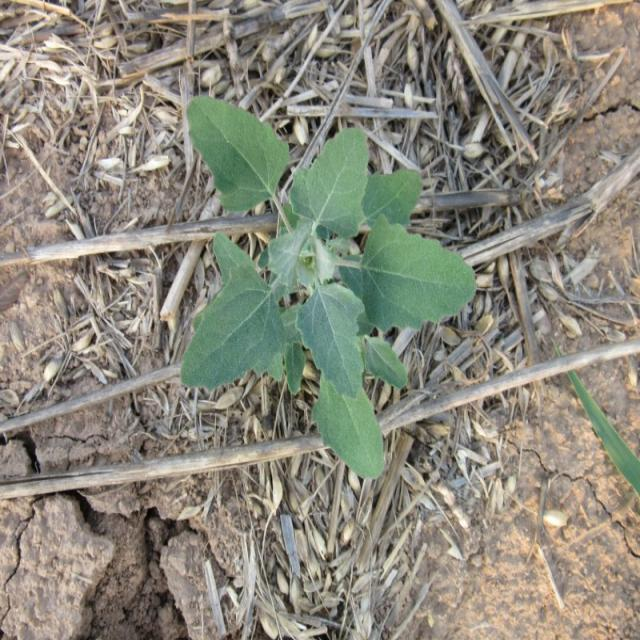ca: (178, 94, 474, 476)
